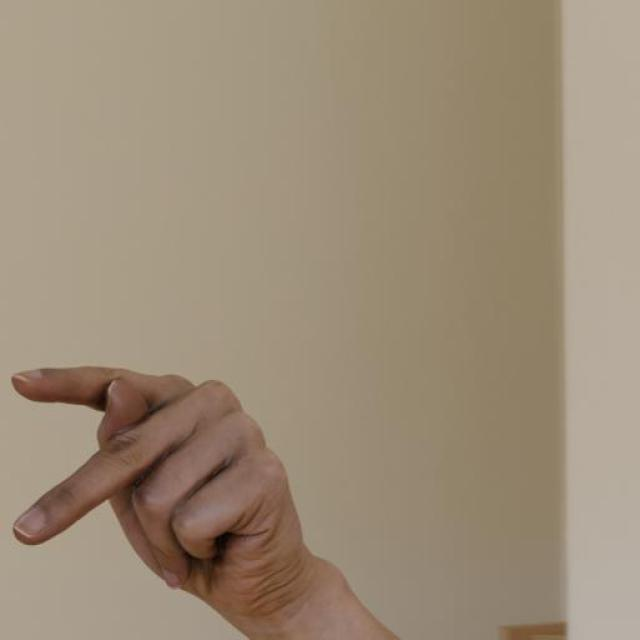P: (12, 367, 309, 607)
